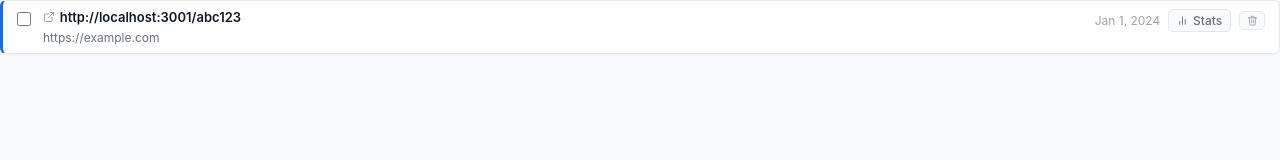
Test case: Table › clears the selection via the Clear button
What coordinates should you click on to do the following:
click the checkbox named "Select /foo"
I would click on:
 (24, 19)
Its box is 17,12 -> 31,26.
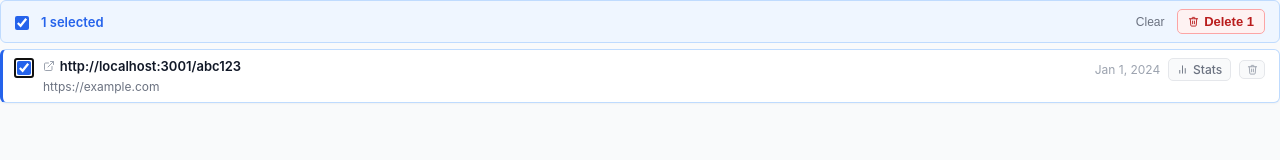
Result: the text "1 selected" is shown at 41,14 -> 104,30
What coordinates should you click on to do the following:
click the button "Clear"
I would click on:
 (1150, 22)
Its box is 1136,14 -> 1164,28.
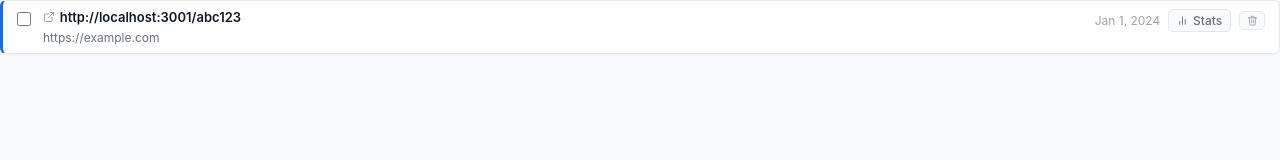
Result: the text "1 selected" is gone
